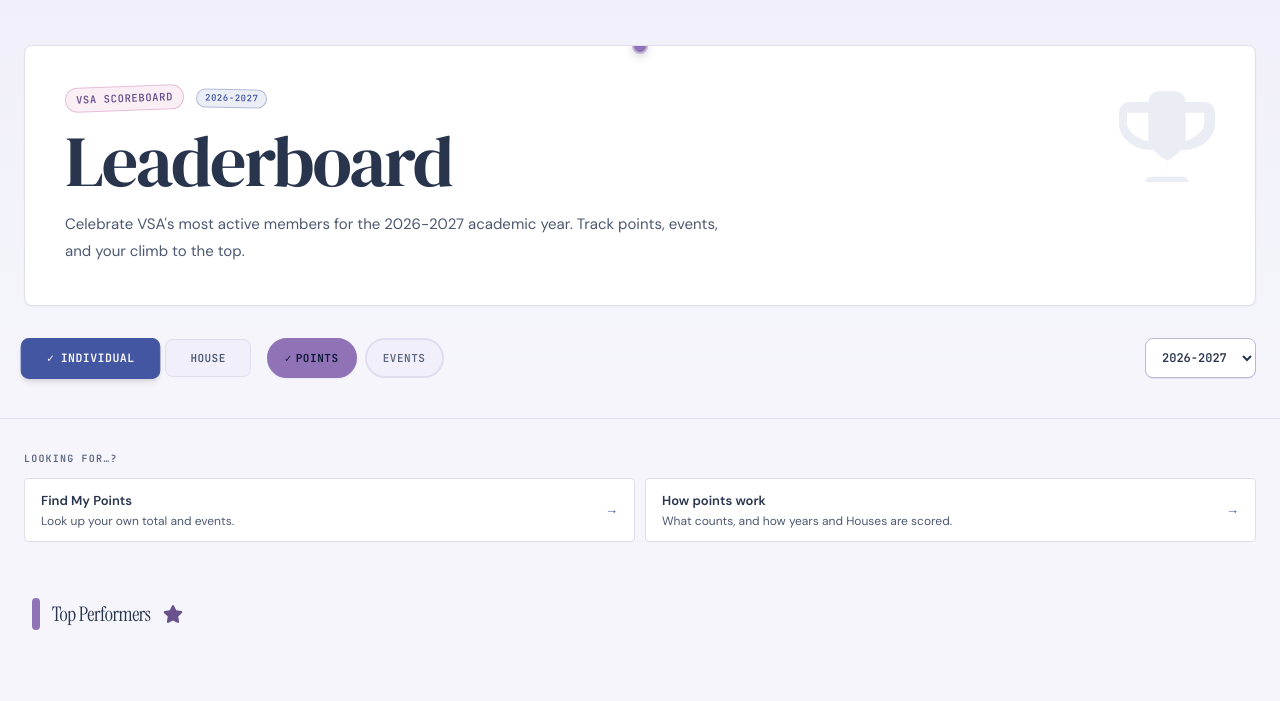
Scenario: leaderboard badges on ALL members, not only Top 3 (#627) › omits year-specific roles in All-Time and never asserts old leadership is current
Select "ALL-TIME" in the dropdown named "Select academic year" at (1200, 358), box [1145,338,1256,378]
(page scrolled)
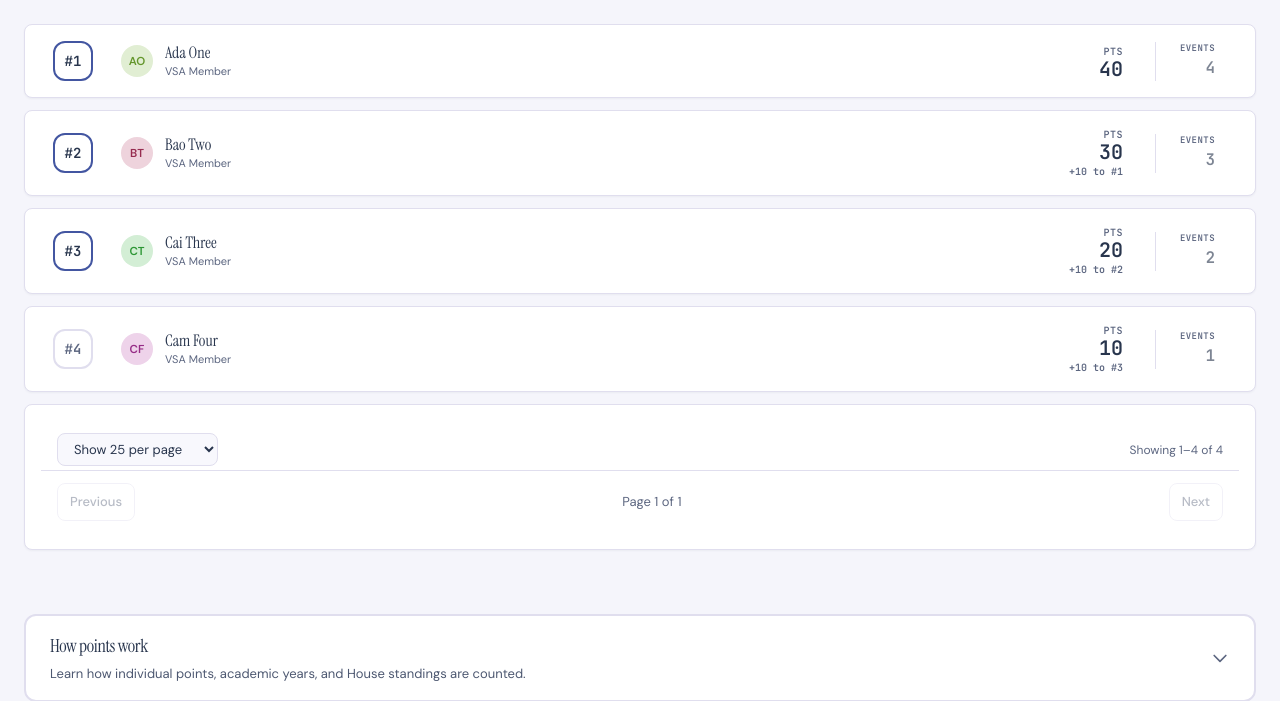
Click the button with aria-label "Open profile for Cam Four" at (191, 341), box [165,331,218,351]
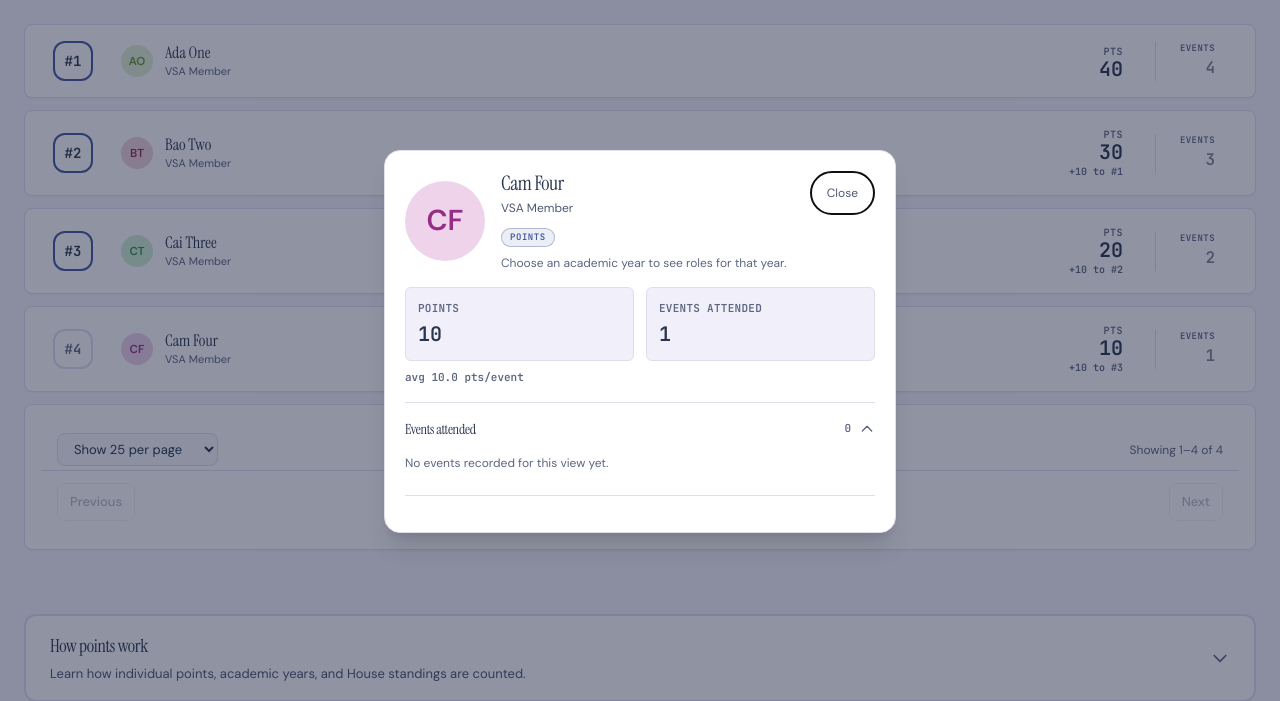
expect the text "Choose an academic year to see roles for that year." is shown: met, box [501,254,786,270]
